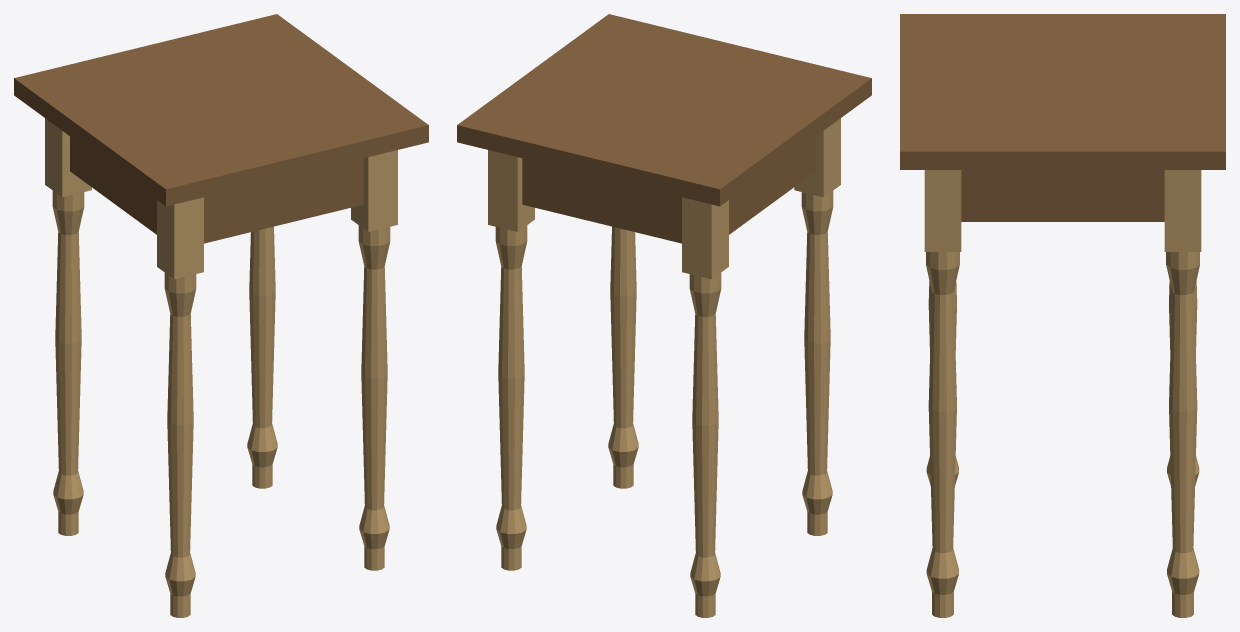
File: FET-STL-counter.glb
3 views of the same model, side by side, from view 1: azimuth 30°, elevation 25°; view 2: azimuth 150°, elevation 25°; view 3: azimuth 270°, elevation 25° (orthographic). The views are drawn at different scales.
Parts seen in each view (by area): view 1: top:pbr, leg-fl:pbr, leg-fr:pbr, leg-bl:pbr, apron-f:pbr, leg-br:pbr, apron-l:pbr; view 2: top:pbr, leg-bl:pbr, leg-br:pbr, leg-fl:pbr, apron-b:pbr, leg-fr:pbr, apron-l:pbr; view 3: top:pbr, leg-fr:pbr, leg-br:pbr, apron-r:pbr, leg-fl:pbr, leg-bl:pbr.
Boxes of the visible parts, <box> form: top:pbr: <box>14,14,428,206</box>; leg-fl:pbr: <box>157,197,203,617</box>; leg-fr:pbr: <box>351,150,397,570</box>; leg-bl:pbr: <box>45,118,91,535</box>; apron-f:pbr: <box>204,158,363,243</box>; leg-br:pbr: <box>247,226,277,488</box>; apron-l:pbr: <box>70,136,156,234</box>; top:pbr: <box>457,14,871,206</box>; leg-bl:pbr: <box>682,197,728,617</box>; leg-br:pbr: <box>488,150,534,570</box>; leg-fl:pbr: <box>794,118,840,535</box>; apron-b:pbr: <box>522,158,681,243</box>; leg-fr:pbr: <box>608,226,638,488</box>; apron-l:pbr: <box>729,136,815,234</box>; top:pbr: <box>900,14,1225,169</box>; leg-fr:pbr: <box>924,170,961,617</box>; leg-br:pbr: <box>1164,170,1201,617</box>; apron-r:pbr: <box>961,170,1164,221</box>; leg-fl:pbr: <box>926,281,958,485</box>; leg-bl:pbr: <box>1167,281,1199,485</box>.
Bounding box in the file's own units: 0.4 × 0.65 × 0.4.
